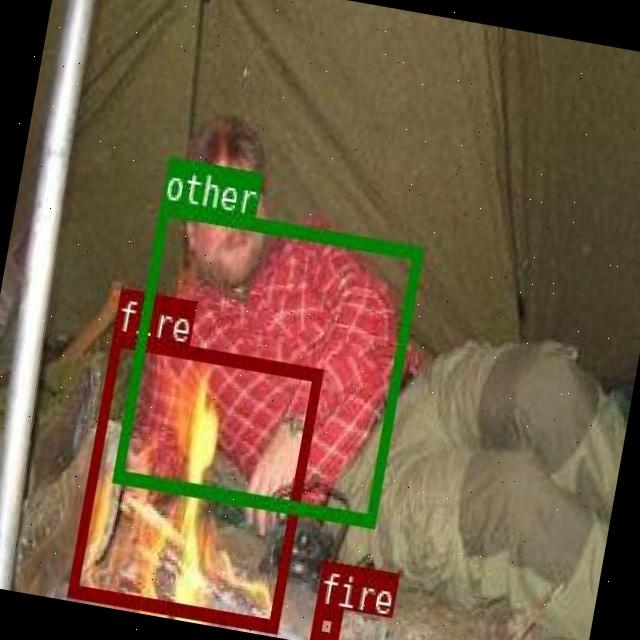fire: (66, 331, 322, 631), (308, 604, 339, 640)
